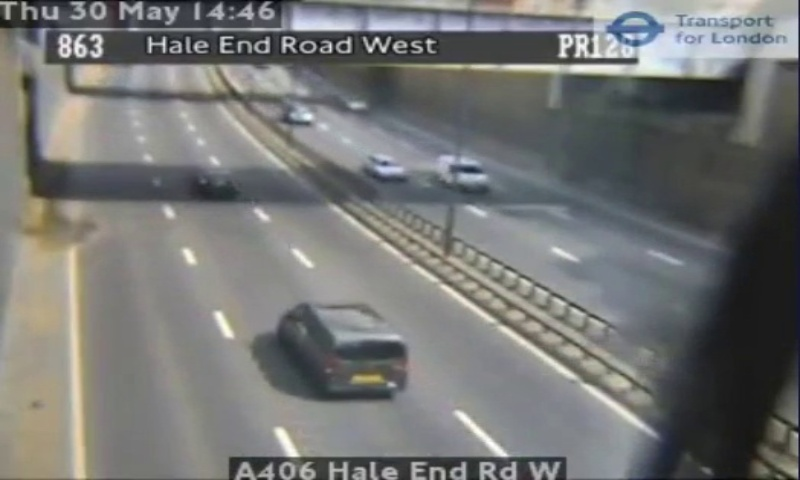van: (280, 303, 409, 397)
